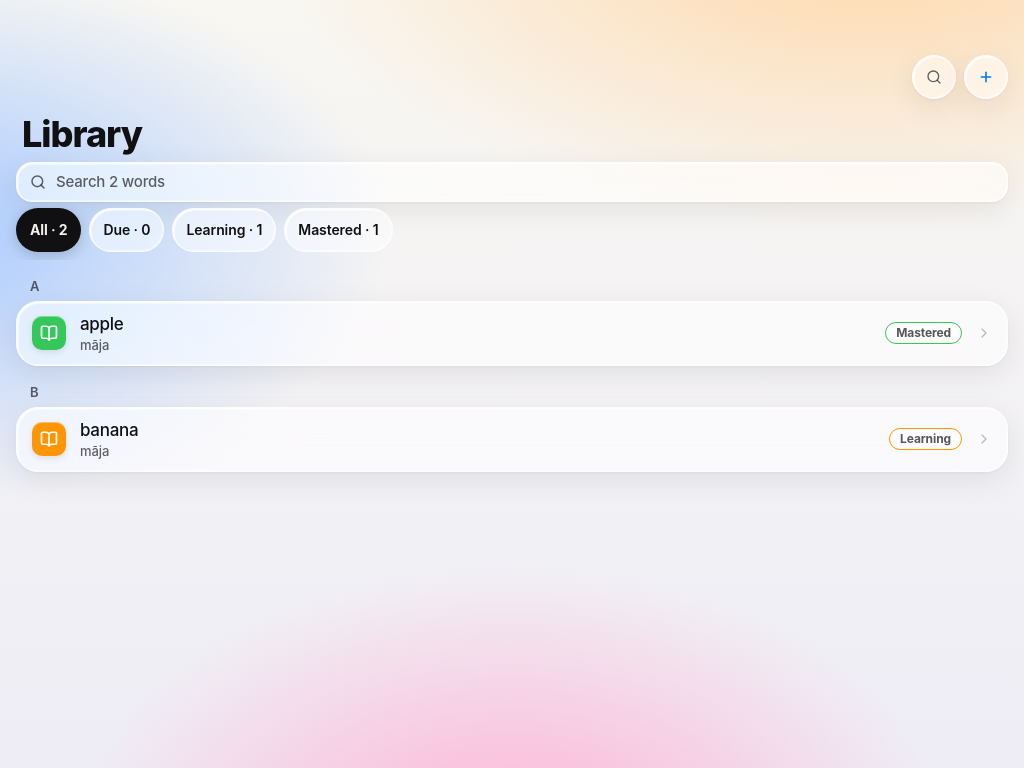
Test case: LibraryScreen › Filter pills › should filter to mastered words only when Mastered pill is active
Expected: the text "apple" is shown, x1=80 y1=314 x2=124 y2=334
Expected: the text "banana" is shown, x1=80 y1=420 x2=138 y2=440
Click the button with aria-label "Filter: Mastered" at (338, 230), box x1=284 y1=208 x2=392 y2=252
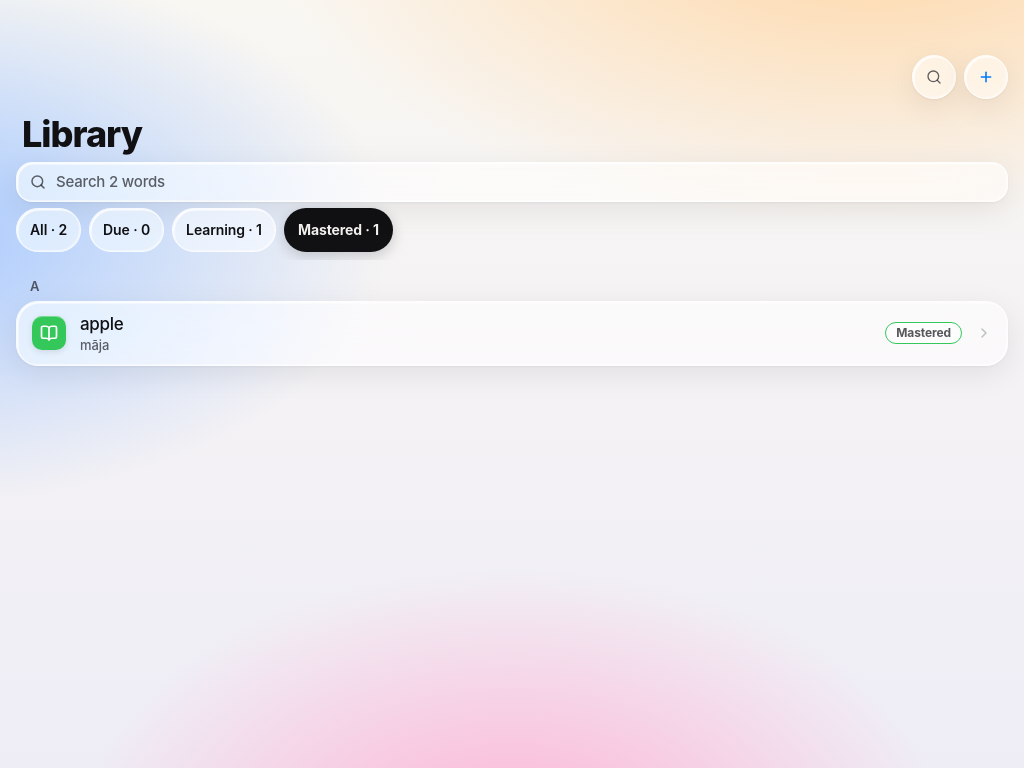
Expected: the text "apple" is shown, x1=80 y1=314 x2=124 y2=334
Expected: the button "banana" is gone
